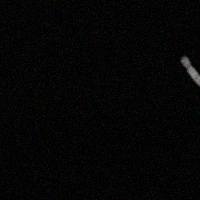chromosome: (180, 57, 200, 87)
